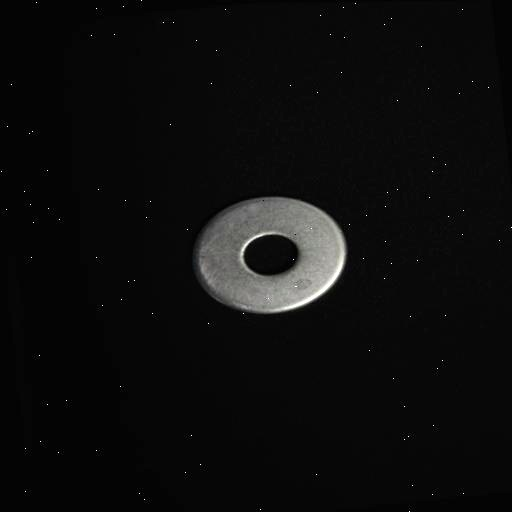Product: (192, 197, 347, 314)
Scratch: (188, 230, 229, 292), (234, 241, 261, 279)
